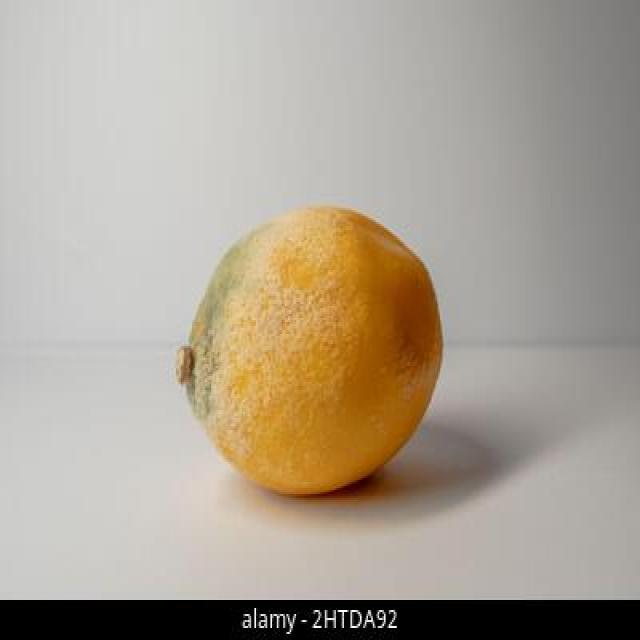overripe: (172, 200, 451, 505)
